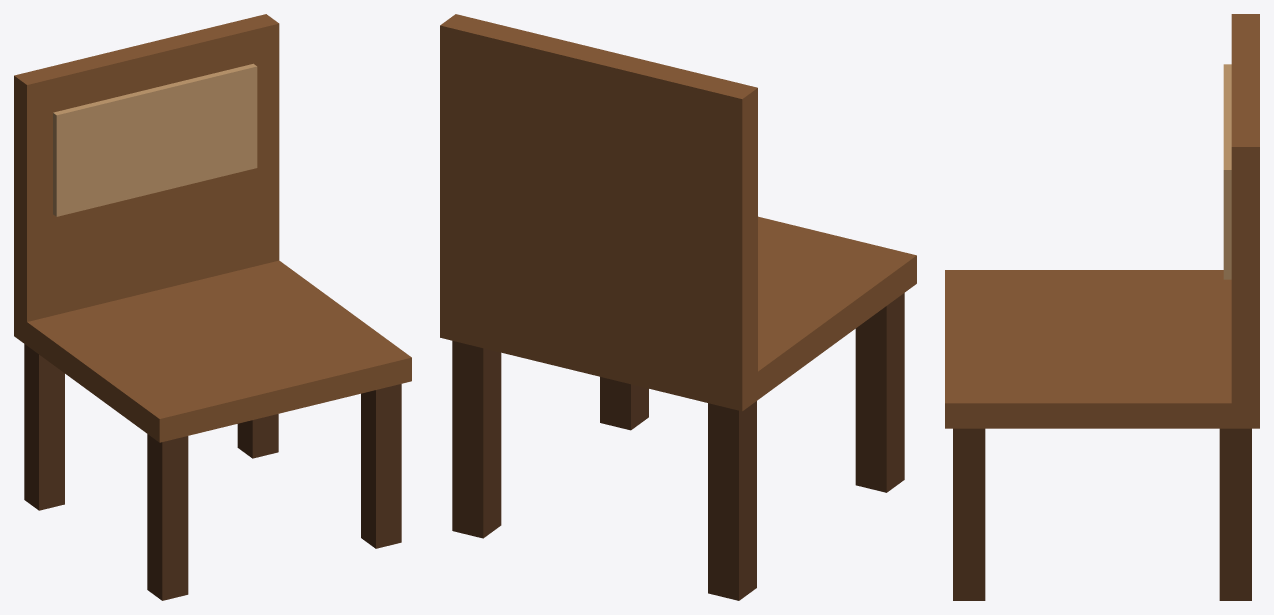
The model's file is chair.glb.
3 views of the same model, side by side, from view 1: azimuth 30°, elevation 25°; view 2: azimuth 150°, elevation 25°; view 3: azimuth 270°, elevation 25° (orthographic). The views are drawn at different scales.
Visible parts, largest first — view 1: chair; view 2: chair; view 3: chair.
Part boxes in pixels (bbox=[...]): chair: bbox=[14, 14, 411, 600]; chair: bbox=[440, 14, 916, 600]; chair: bbox=[945, 14, 1259, 600].
Size of the model in its own units: 0.78 by 1.25 by 0.78.
